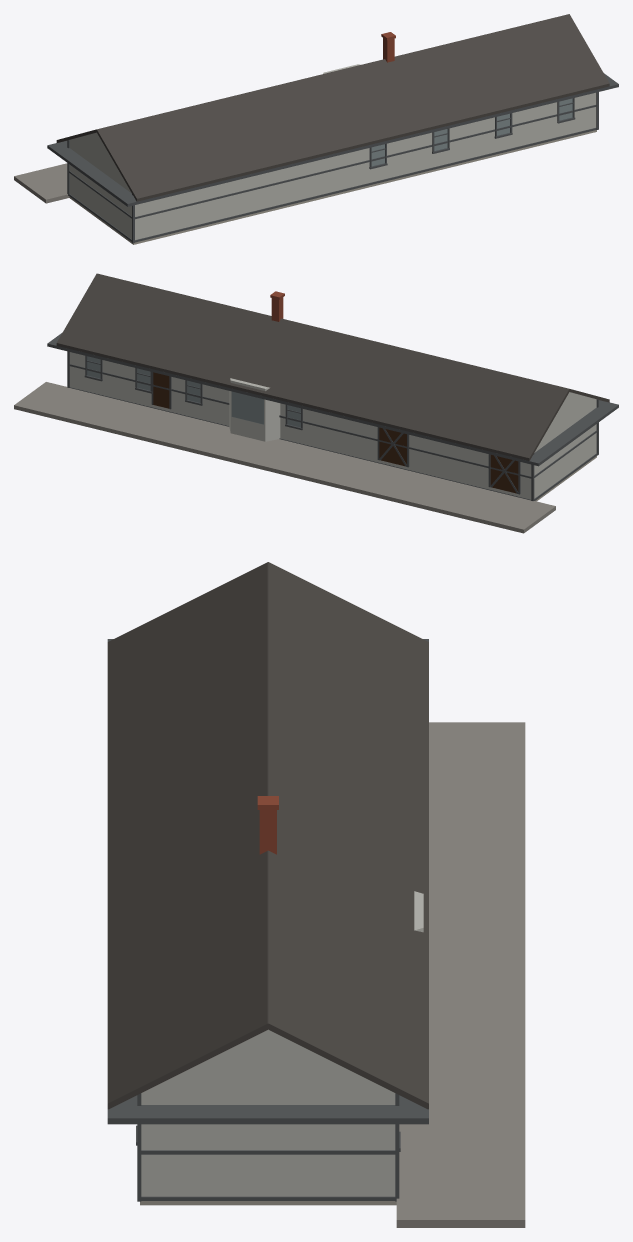
File: Mayville_Depot.glb
3 renders of one model, top to bottom at view 1: azimuth 30°, elevation 25°; view 2: azimuth 150°, elevation 25°; view 3: azimuth 270°, elevation 25°, orthographic. The views are drawn at different scales.
Visible parts, largest first — view 1: roof, walls, trim, platform, foundation, glass, sash, chimney; view 2: roof, platform, walls, trim, doors, glass, sash, chimney; view 3: roof, platform, walls, trim, foundation, chimney.
Boxes of the visible parts, x1,y1,x2,y2 form: roof: (56,14,609,201); walls: (69,64,596,239); trim: (47,73,618,243); platform: (14,163,69,203); foundation: (69,130,596,244); glass: (372,98,572,166); sash: (369,98,575,169); chimney: (381,32,395,62); roof: (56,273,609,460); platform: (14,382,555,533); walls: (70,352,596,499); trim: (47,332,618,500); doors: (153,372,518,493); glass: (87,356,300,427); sash: (84,356,302,430); chimney: (270,291,284,321); roof: (107,562,428,1109); platform: (396,722,525,1227); walls: (141,891,423,1196); trim: (107,639,428,1201); foundation: (140,1201,396,1205); chimney: (257,796,278,854).
Bounding box in the file's own units: 1.16 × 0.2522 × 0.4099.
